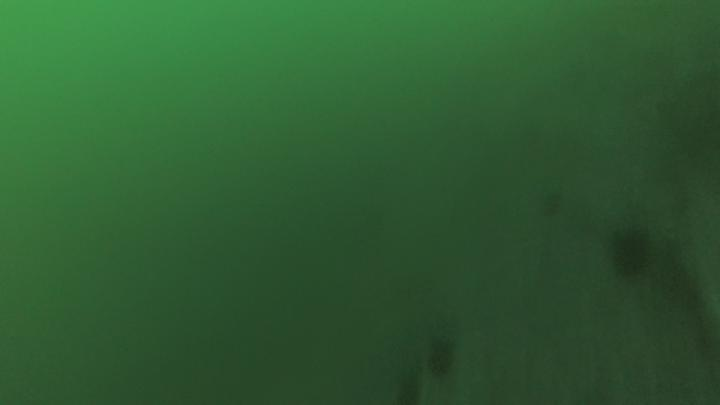echinus: (612, 225, 653, 278), (423, 332, 458, 381)
